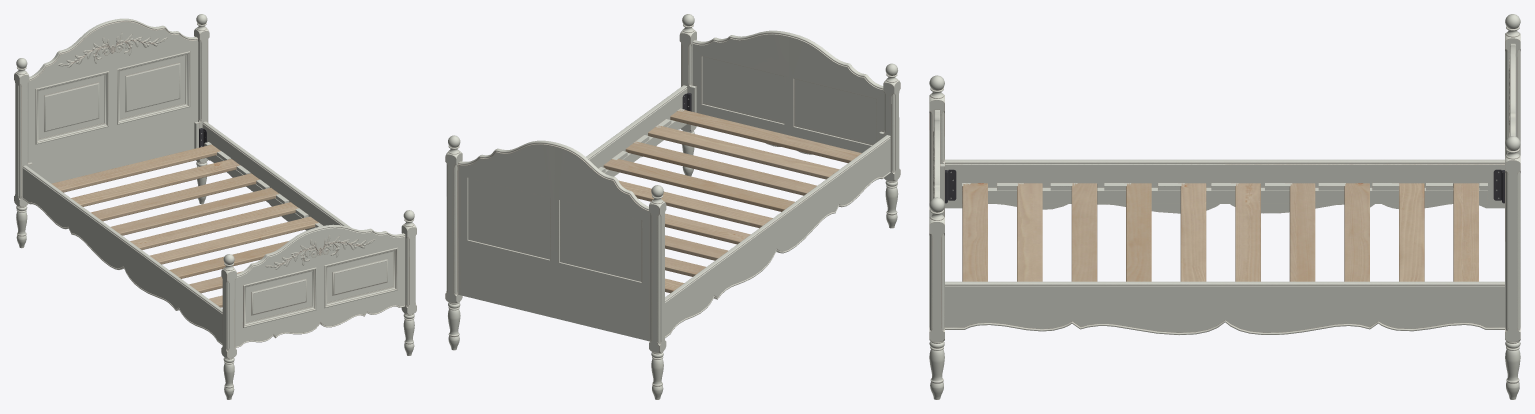
Rendered from example151.gltf.
3 renders of one model, left to right at view 1: azimuth 30°, elevation 25°; view 2: azimuth 150°, elevation 25°; view 3: azimuth 270°, elevation 25°, orthographic. The views are drawn at different scales.
Size of the model in its own units: 107 by 110 by 208.
Materials: 3 (3 with a texture image).
